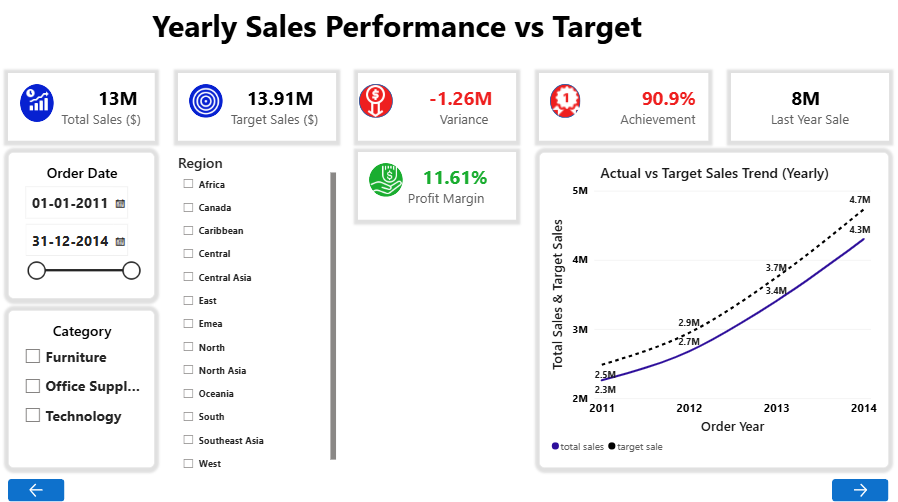

What the dashboard file says about the page in this screenshot:
{"tool":"powerbi","page":{"name":"Page 4","canvas":[1280,720],"ordinal":3},"visuals":[{"type":"textbox","box":[256,112,224,96],"z":0},{"type":"shape","box":[272,128,48,48],"z":0,"group":"g2"},{"type":"shape","box":[528,240,48,48],"z":0,"group":"g3"},{"type":"image","box":[272,112,48,80],"z":1000,"group":"g2"},{"type":"image","box":[512,240,80,48],"z":1000,"group":"g3"},{"type":"slicer","title":"Category","fields":{"Values":["superstore data.category"]},"box":[16,448,208,224],"z":1000},{"type":"slicer","title":"Order Date","fields":{"Values":["superstore data.order_date"]},"box":[16,224,208,208],"z":2000},{"type":"lineChart","title":"Actual vs Target Sales Trend (Yearly)","fields":{"Category":["superstore data.order_year","superstore data.order_month"],"Y":["date tabel calender.total sales","date tabel calender.target sale"]},"box":[768,224,496,448],"z":3000},{"type":"textbox","box":[16,112,208,96],"z":4000},{"type":"group","id":"g1","title":"Group 1","box":[32,128,64,48],"z":5000},{"type":"group","id":"g2","title":"Group 2","box":[272,112,48,80],"z":6000},{"type":"textbox","box":[512,112,224,96],"z":7000},{"type":"textbox","box":[768,112,240,96],"z":8000},{"type":"textbox","box":[1040,112,224,96],"z":9000},{"type":"shape","box":[32,128,48,54],"z":10000,"group":"g1"},{"type":"textbox","box":[512,224,224,96],"z":10000},{"type":"group","id":"g3","title":"Group 6","box":[512,240,80,48],"z":11000},{"type":"image","box":[32,134.7,53.3,35.4],"z":11001,"group":"g1"},{"type":"group","id":"g4","title":"Group 3","box":[480,128,112,48],"z":12000},{"type":"group","id":"g5","title":"Group 4","box":[784,128,48,48],"z":13000},{"type":"textbox","box":[208,16,960,64],"z":14000},{"type":"slicer","title":"Region","fields":{"Values":["superstore data.region"]},"box":[256,224,224,448],"z":15000},{"type":"actionButton","box":[16,688,80,32],"z":16000},{"type":"textbox","box":[512,320,224,352],"z":16001},{"type":"actionButton","box":[1184,688,80,32],"z":16002},{"type":"shape","box":[784,128,43.2,48],"z":17000,"group":"g5"},{"type":"shape","box":[512,128,48,48],"z":18000,"group":"g4"},{"type":"image","box":[784,128,48,48],"z":18002,"group":"g5"},{"type":"image","box":[480,128,112,48],"z":18500,"group":"g4"}]}

Visuals, with their boxes in screenshot pixels (x1, y1, x2, y2), scaled from the page's 1280x720 canvas onto the 898x502 screenshot:
textbox: l=180, t=78, r=337, b=145
shape: l=191, t=89, r=224, b=123
shape: l=370, t=167, r=404, b=201
image: l=191, t=78, r=224, b=134
image: l=359, t=167, r=415, b=201
"Category" slicer: l=11, t=312, r=157, b=469
"Order Date" slicer: l=11, t=156, r=157, b=301
"Actual vs Target Sales Trend (Yearly)" lineChart: l=539, t=156, r=887, b=469
textbox: l=11, t=78, r=157, b=145
"Group 1" group: l=22, t=89, r=67, b=123
"Group 2" group: l=191, t=78, r=224, b=134
textbox: l=359, t=78, r=516, b=145
textbox: l=539, t=78, r=707, b=145
textbox: l=730, t=78, r=887, b=145
shape: l=22, t=89, r=56, b=127
textbox: l=359, t=156, r=516, b=223
"Group 6" group: l=359, t=167, r=415, b=201
image: l=22, t=94, r=60, b=119
"Group 3" group: l=337, t=89, r=415, b=123
"Group 4" group: l=550, t=89, r=584, b=123
textbox: l=146, t=11, r=819, b=56
"Region" slicer: l=180, t=156, r=337, b=469
actionButton: l=11, t=480, r=67, b=501
textbox: l=359, t=223, r=516, b=469
actionButton: l=831, t=480, r=887, b=501
shape: l=550, t=89, r=580, b=123
shape: l=359, t=89, r=393, b=123
image: l=550, t=89, r=584, b=123
image: l=337, t=89, r=415, b=123
